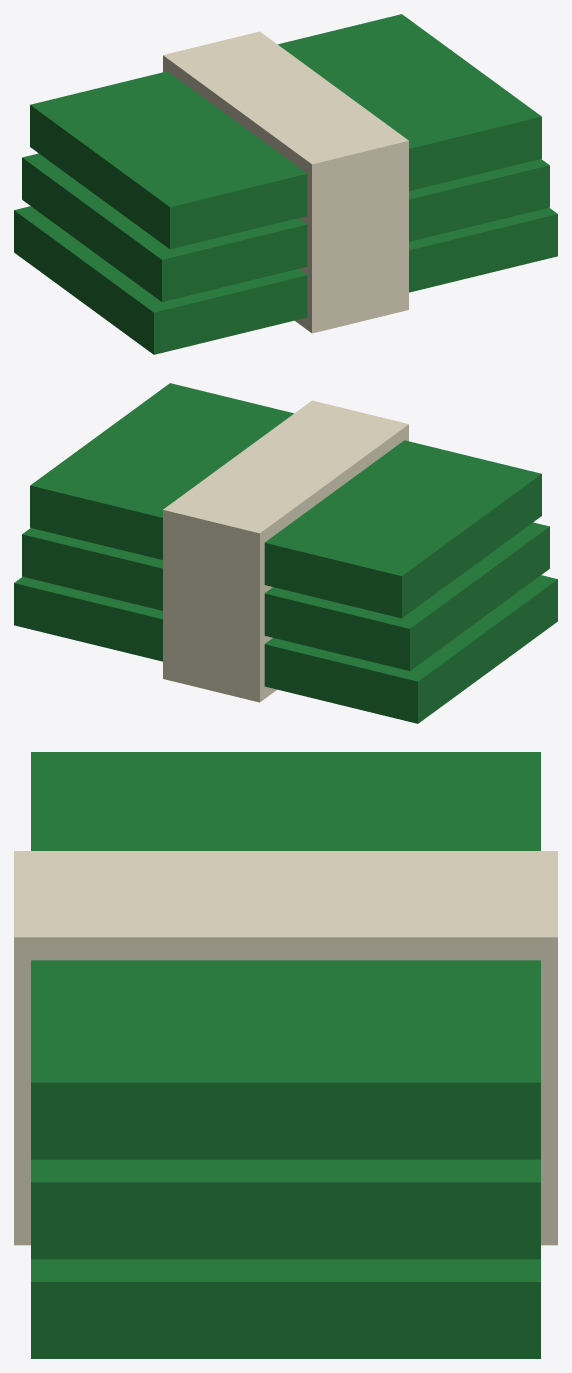
Rendered from desktop.glb.
3 renders of one model, top to bottom at view 1: azimuth 30°, elevation 25°; view 2: azimuth 150°, elevation 25°; view 3: azimuth 270°, elevation 25°, orthographic. The views are drawn at different scales.
Visible parts, largest first — view 1: pickup-cash; view 2: pickup-cash; view 3: pickup-cash.
Part boxes in pixels (left/top/right/bottom): pickup-cash: left=14, top=14, right=557, bottom=354; pickup-cash: left=14, top=383, right=557, bottom=723; pickup-cash: left=14, top=752, right=557, bottom=1358.
Size of the model in its own units: 0.5 by 0.2 by 0.32.
